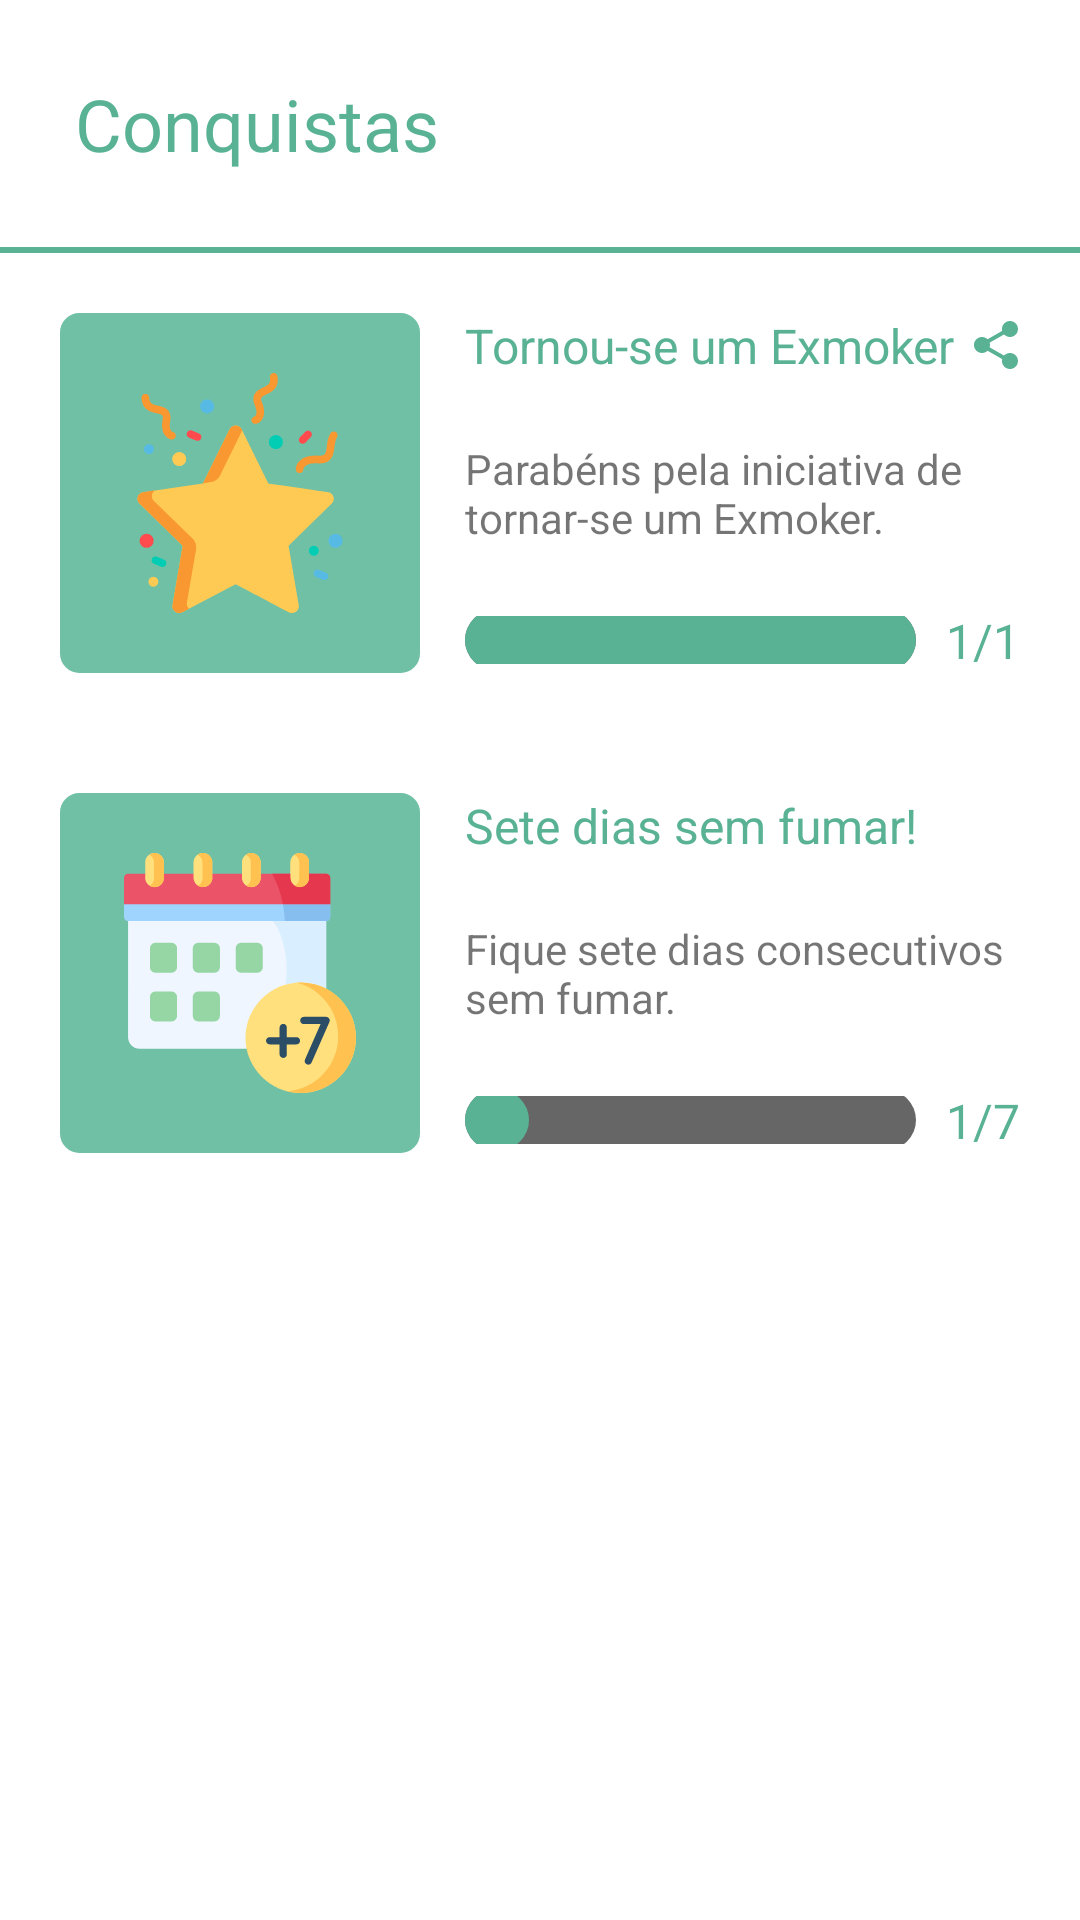

Point at icon controls on the screen. Image size 1080w x 1920h, points as (x=x, y=y).
share: (x=996, y=345)
star: (x=240, y=493)
week: (x=240, y=973)
